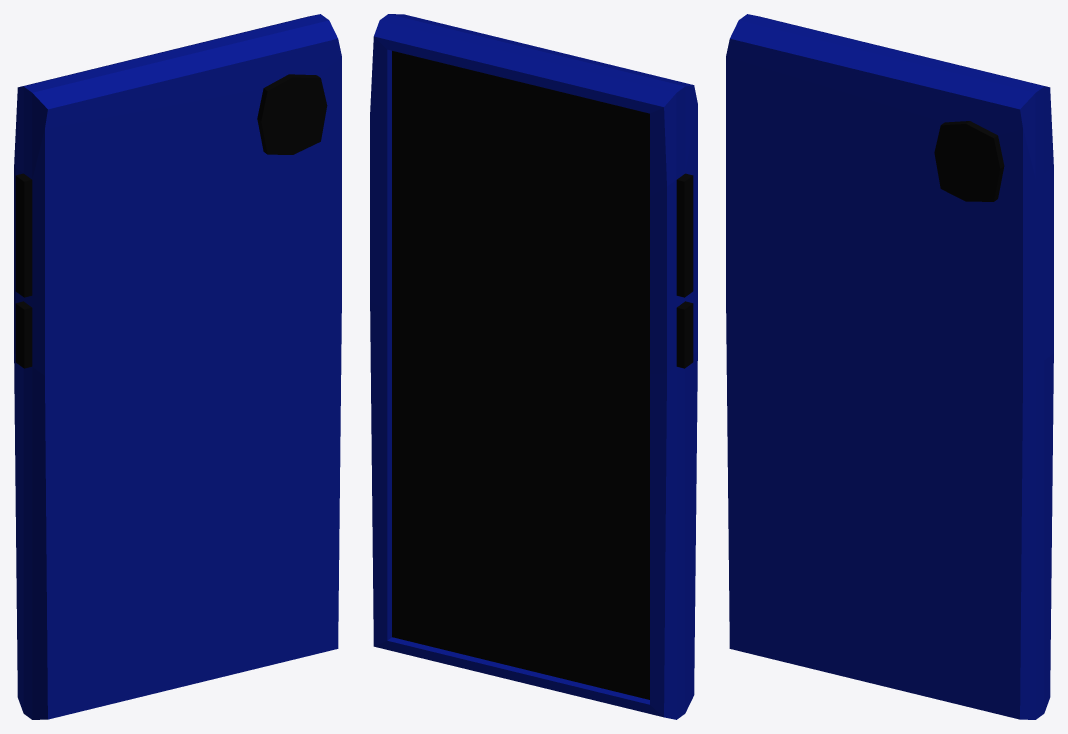
The model's file is Phone.fbx.
The picture shows the model from 3 angles, left to right: view 1: azimuth 30°, elevation 25°; view 2: azimuth 150°, elevation 25°; view 3: azimuth 330°, elevation 25°; orthographic projection.
Visible parts, largest first — view 1: Phone; view 2: Phone; view 3: Phone.
Boxes of the visible parts, x1,y1,x2,y2 form: Phone: [14, 14, 341, 719]; Phone: [370, 14, 697, 719]; Phone: [726, 14, 1053, 719].
Bounding box in the file's own units: 0.0514 × 0.0102 × 0.1009.
